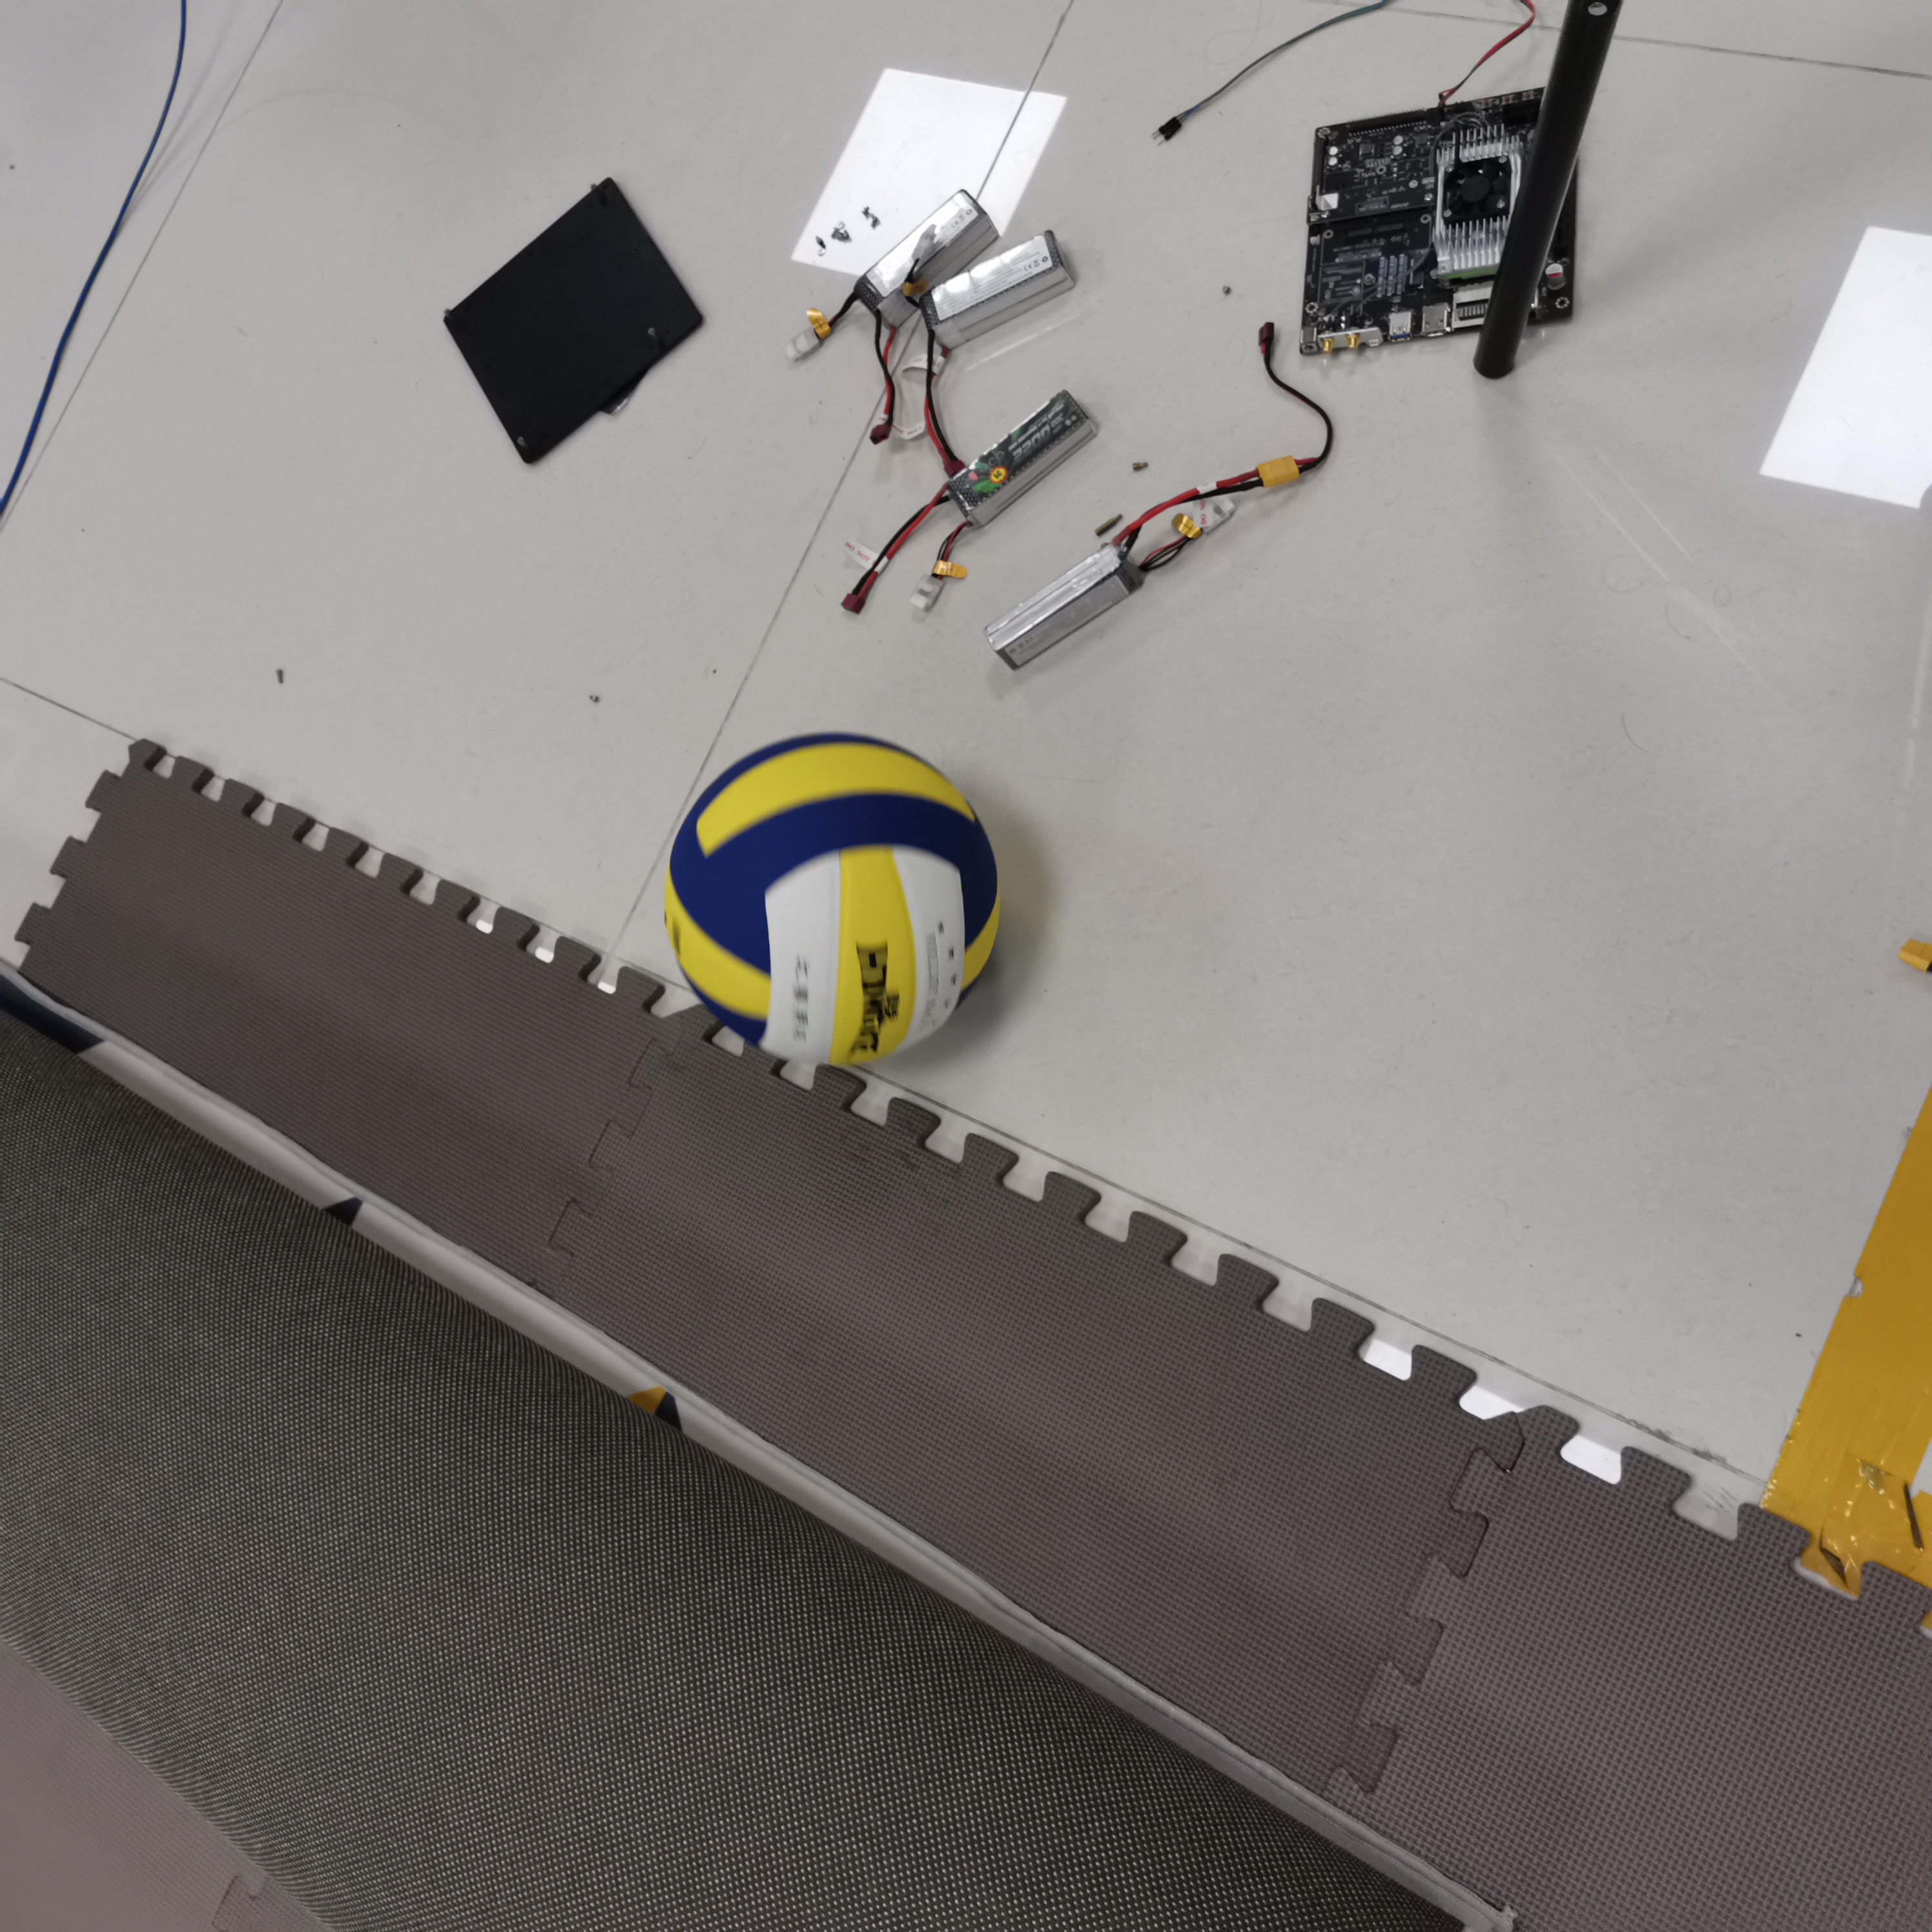volleyball: (662, 734, 1010, 1074)
